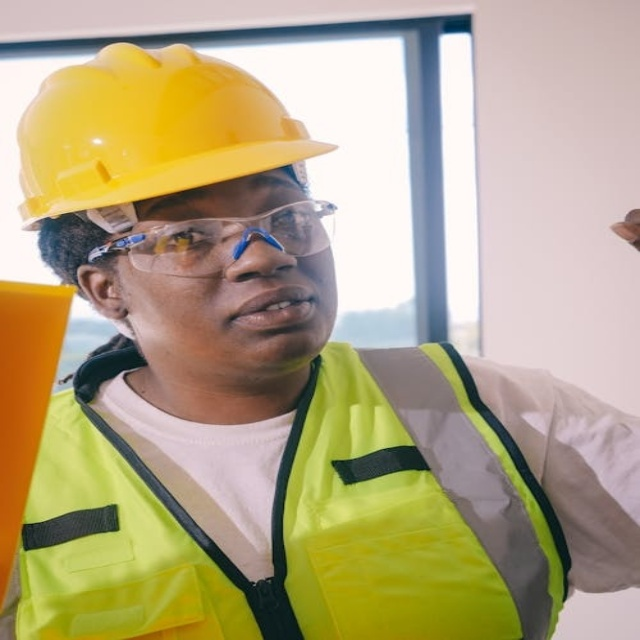Gafas: (77, 194, 344, 285)
Sin_mascara: (214, 285, 337, 361)
